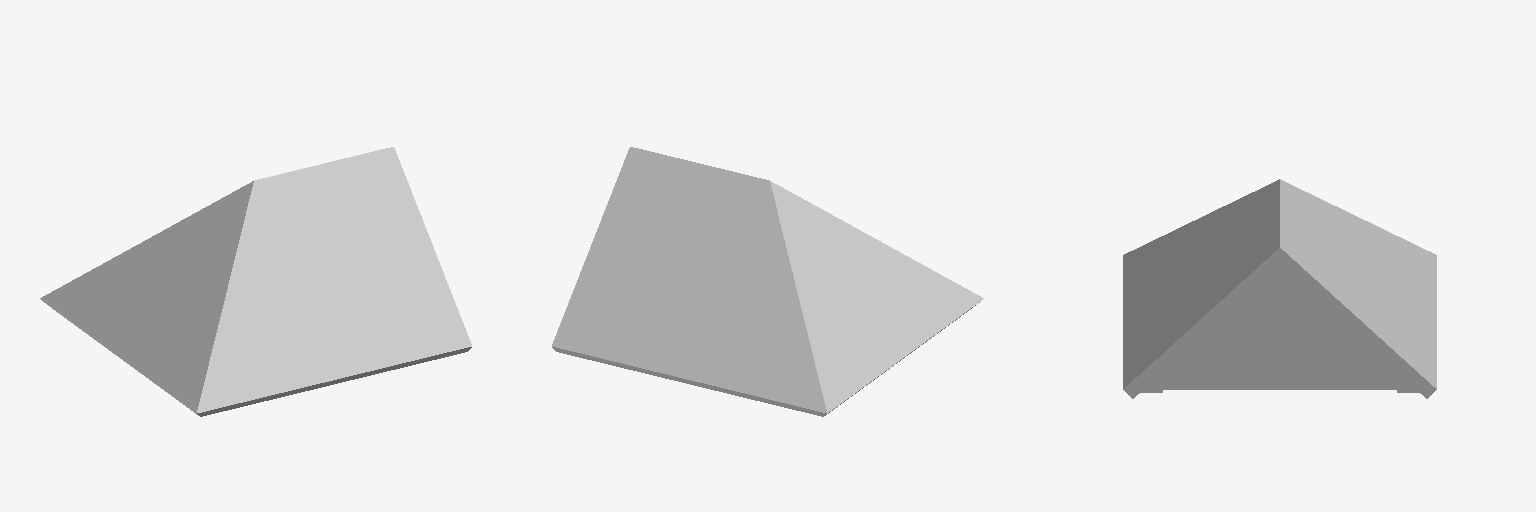
The model's file is roof-gable-end.obj.
3 renders of one model, left to right at view 1: azimuth 30°, elevation 25°; view 2: azimuth 150°, elevation 25°; view 3: azimuth 270°, elevation 25°, orthographic.
Visible parts, largest first — view 1: roof-gable-end; view 2: roof-gable-end; view 3: roof-gable-end.
Part boxes in pixels (x1,y1,x2,y2): roof-gable-end: (40, 147, 471, 416); roof-gable-end: (552, 147, 983, 416); roof-gable-end: (1123, 179, 1436, 398).
Size of the model in its own units: 1.09 by 0.5707 by 1.07.